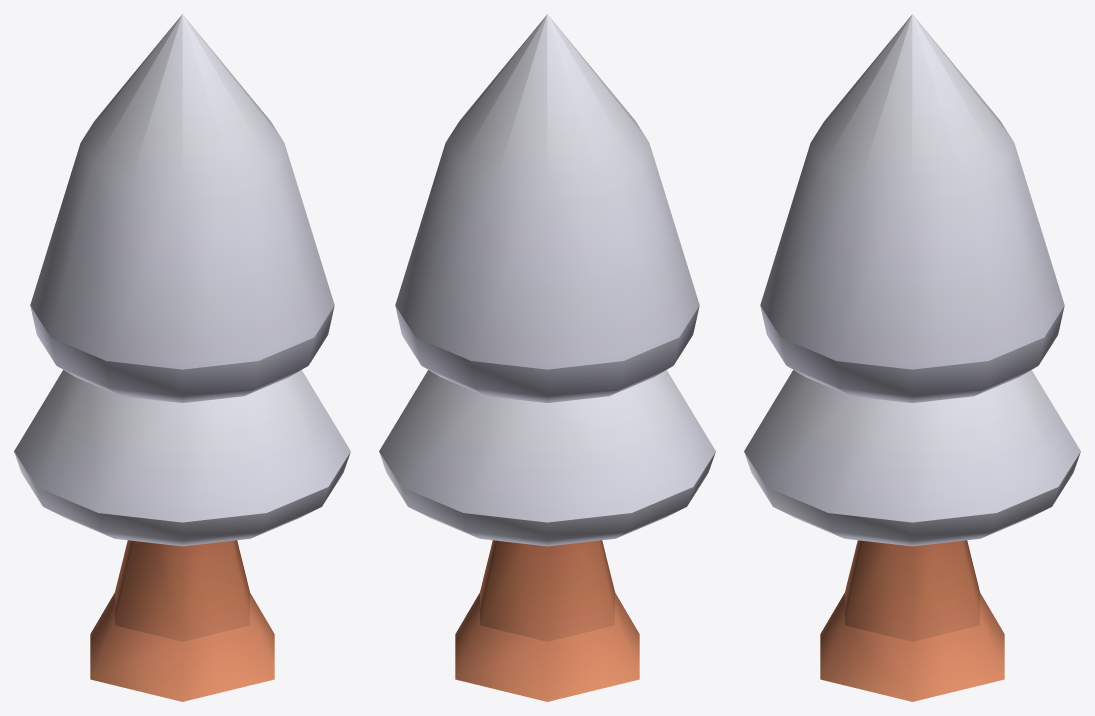
The model's file is kenney-platformer-tree-pine-snow.glb.
3 views of the same model, side by side, from view 1: azimuth 30°, elevation 25°; view 2: azimuth 150°, elevation 25°; view 3: azimuth 270°, elevation 25° (orthographic).
Visible parts, largest first — view 1: tree-pine-snow; view 2: tree-pine-snow; view 3: tree-pine-snow.
Part boxes in pixels (x1,y1,x2,y2): tree-pine-snow: (14,14,350,701); tree-pine-snow: (379,14,715,701); tree-pine-snow: (744,14,1080,701).
Size of the model in its own units: 0.9485 by 2 by 0.9485.
Materials: 1 (1 with a texture image).
